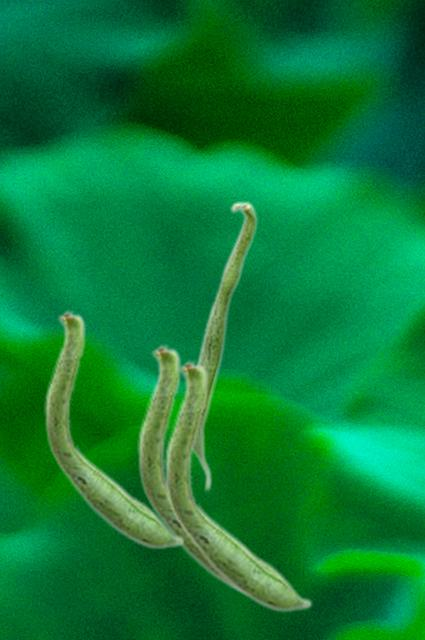french_bean: (164, 358, 312, 612), (44, 308, 184, 549), (137, 342, 235, 594), (195, 200, 257, 492)
